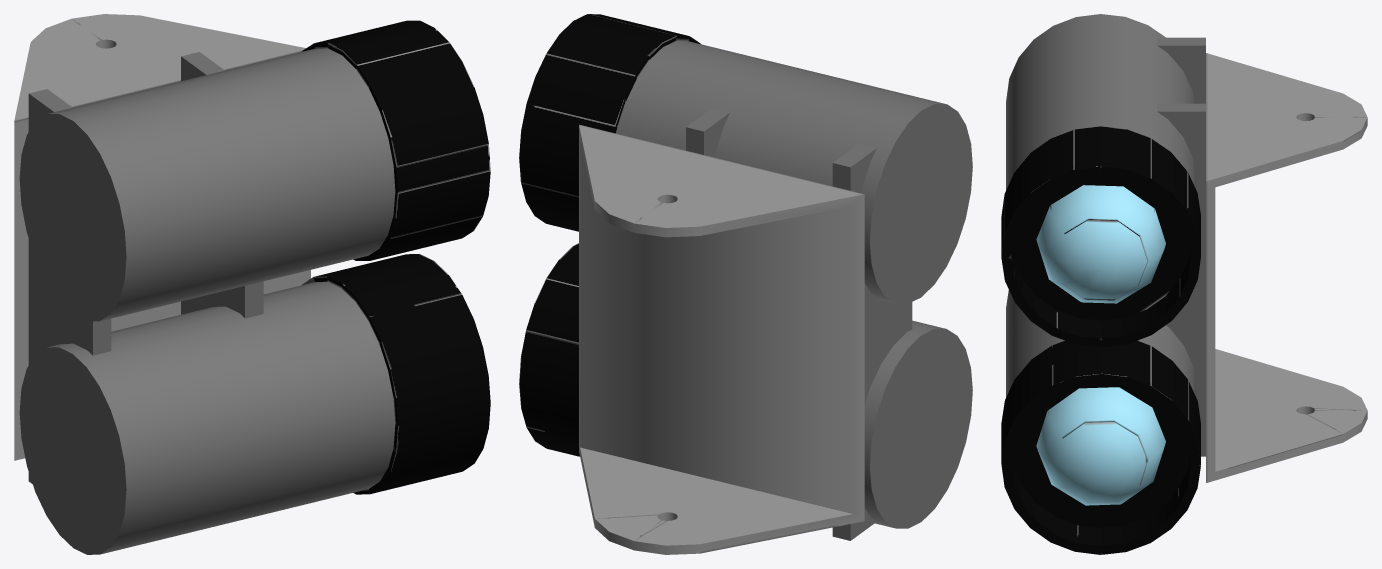
The model's file is ricketts_stereo_camera.obj.
3 renders of one model, left to right at view 1: azimuth 30°, elevation 25°; view 2: azimuth 150°, elevation 25°; view 3: azimuth 270°, elevation 25°, orthographic. The views are drawn at different scales.
Visible parts, largest first — view 1: equipment_stereo_camera.001; view 2: equipment_stereo_camera.001; view 3: equipment_stereo_camera.001.
Part boxes in pixels (x1=…): equipment_stereo_camera.001: x1=14, y1=14, x2=490, y2=554; equipment_stereo_camera.001: x1=519, y1=14, x2=972, y2=554; equipment_stereo_camera.001: x1=1001, y1=14, x2=1367, y2=554.
Size of the model in its own units: 0.2612 by 0.2861 by 0.2445.
Materials: 1 (1 with a texture image).
